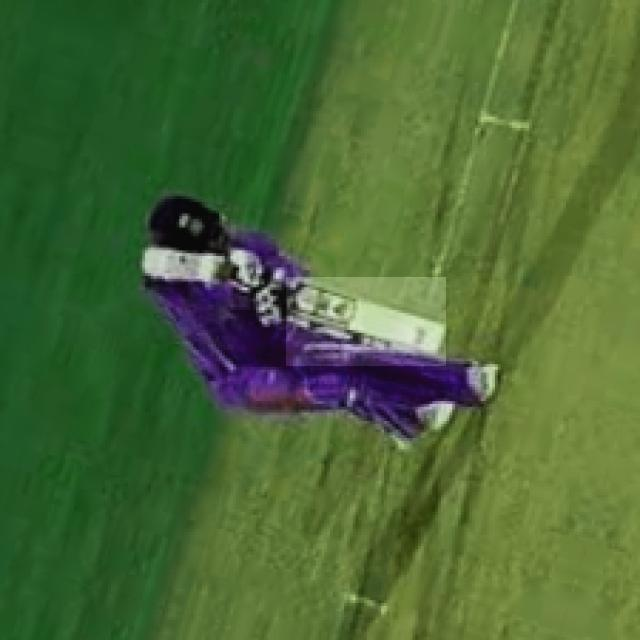bat: (289, 279, 446, 365)
toe: (434, 320, 449, 363)
